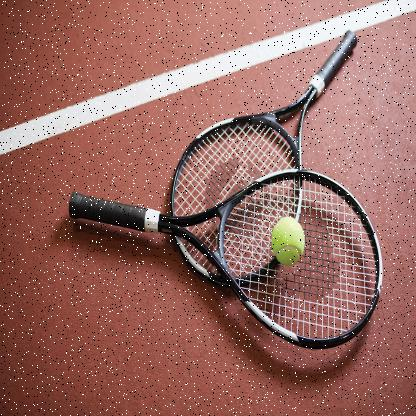tennis: (64, 161, 393, 361)
